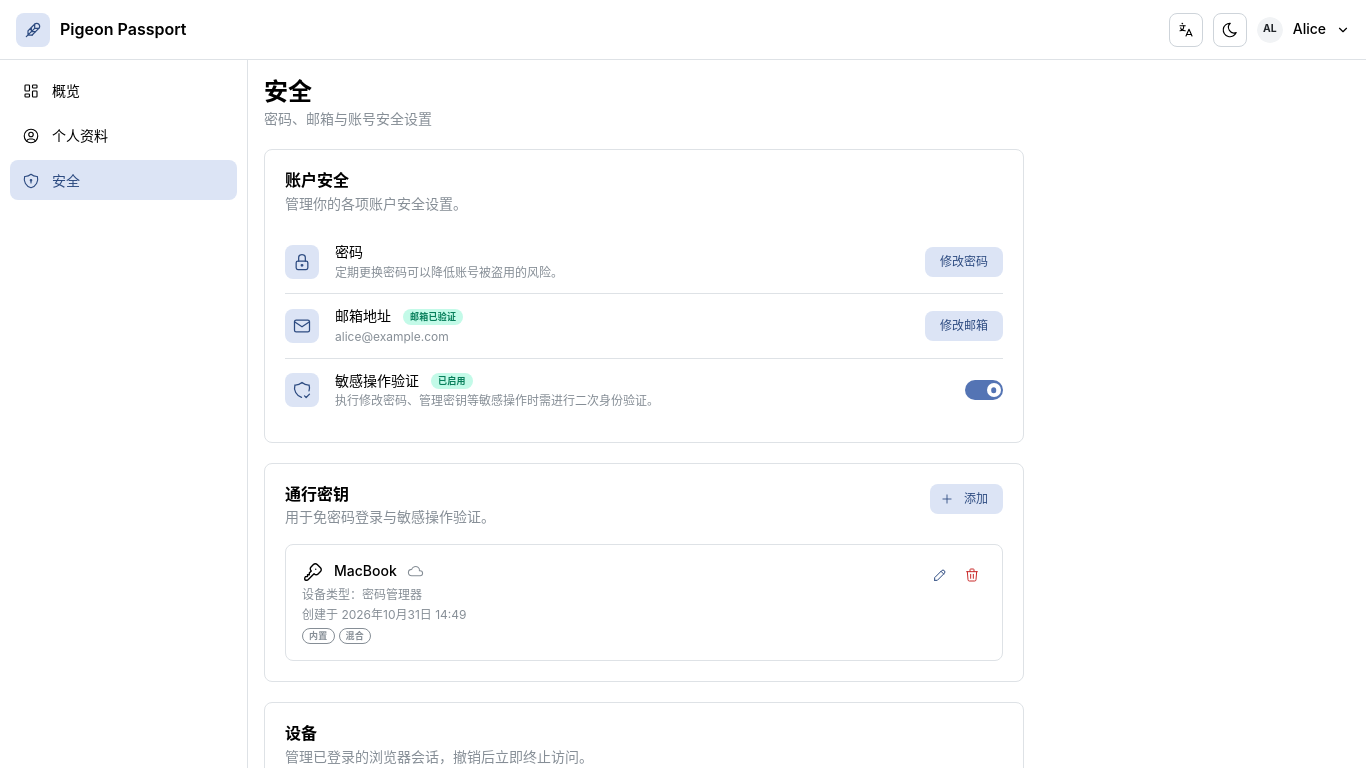
Scenario: SecurityPage passkey registration › asks for step-up before adding a second passkey
Click the button "添加".
click(966, 499)  # box [930, 484, 1003, 514]
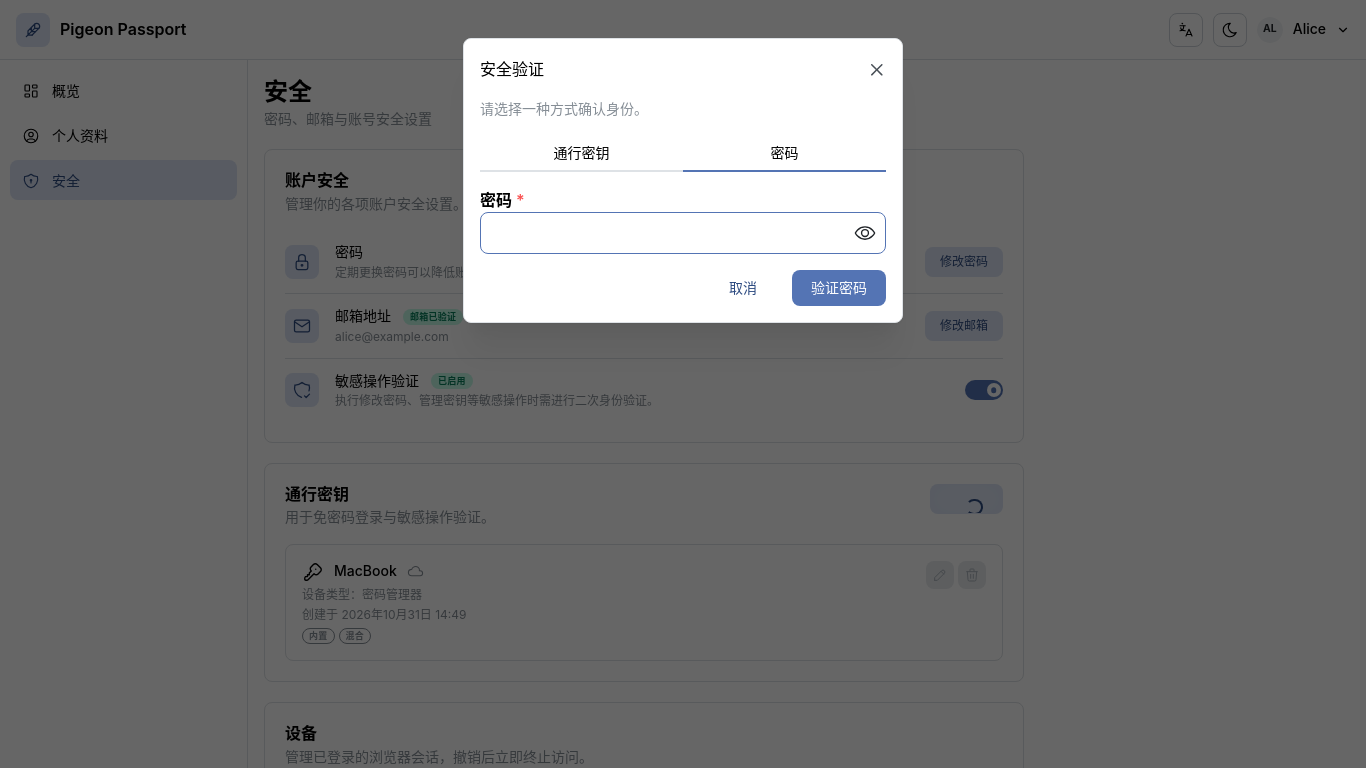
Check: the heading "安全验证" is shown, box [480, 61, 544, 77]
Click the tab "通行密钥".
click(582, 154)  # box [480, 136, 683, 172]
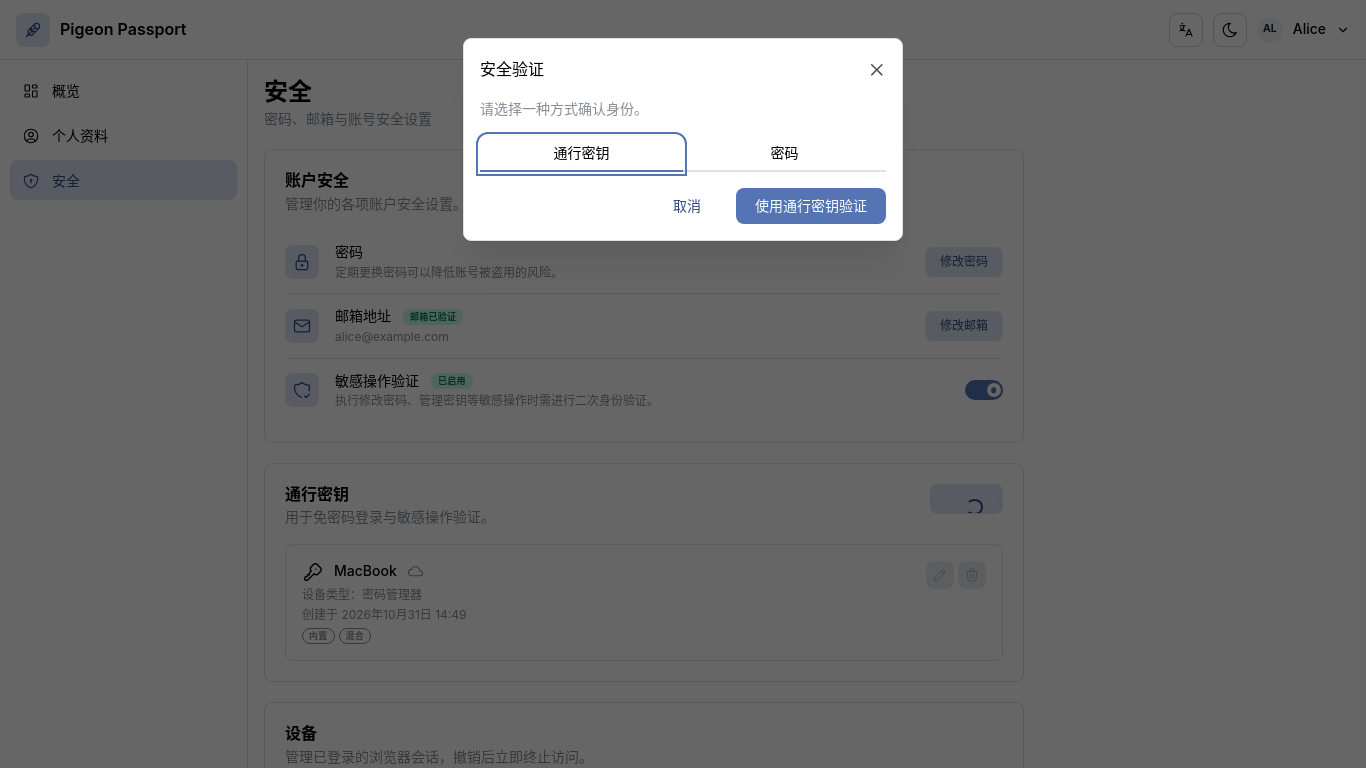
Click the button "使用通行密钥验证".
click(811, 206)  # box [736, 188, 886, 224]
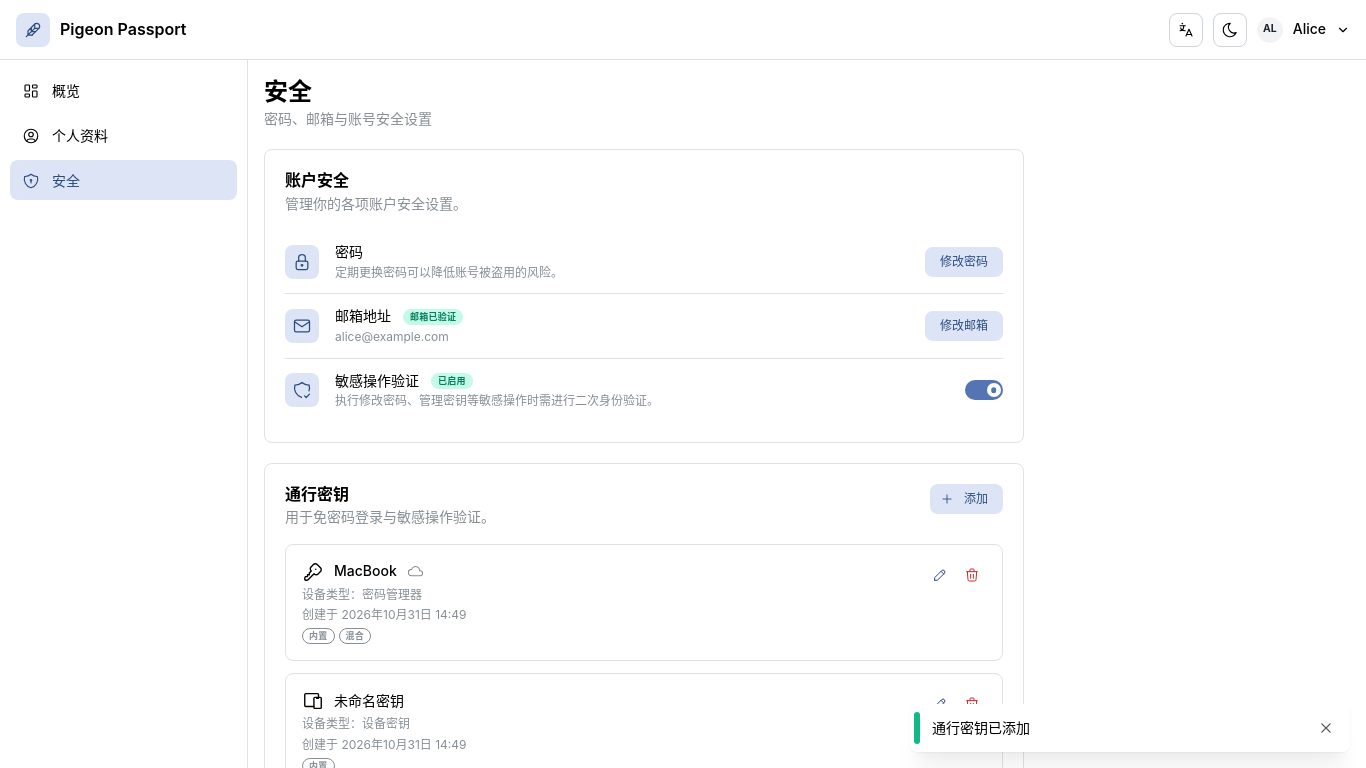
Check: the text "通行密钥已添加" is shown, box [932, 719, 1030, 736]
